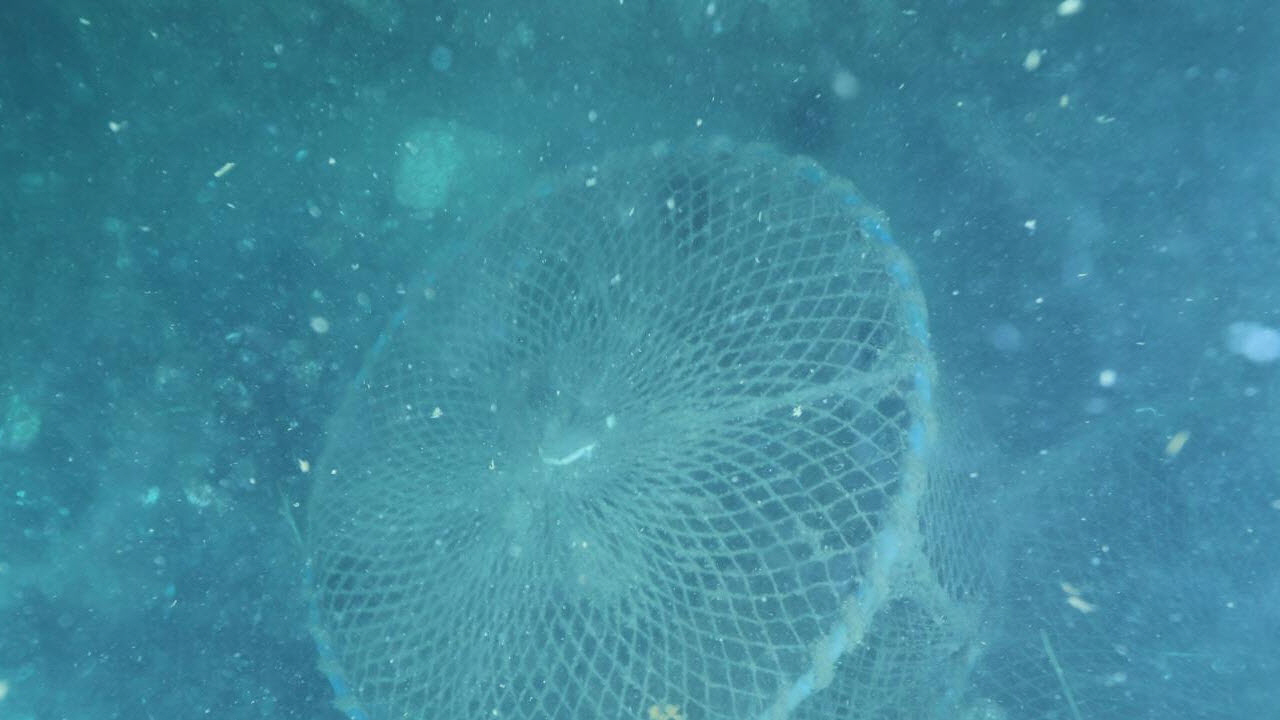circular fish trap: (304, 136, 1004, 720)
fish net: (1007, 415, 1280, 720)
